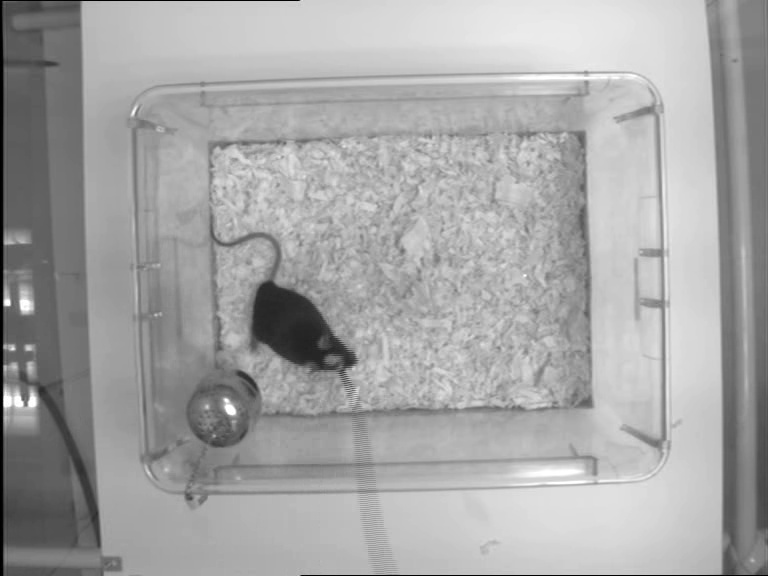mice: (208, 215, 360, 373)
